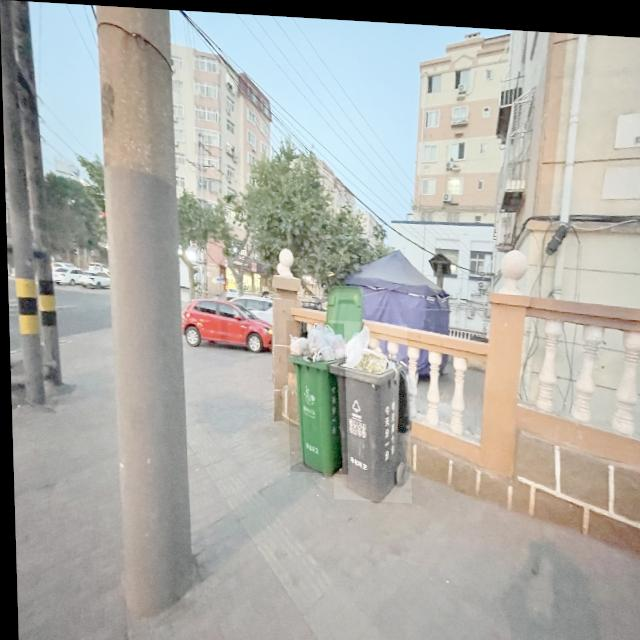overflow: (327, 316, 409, 499), (285, 317, 346, 471)
